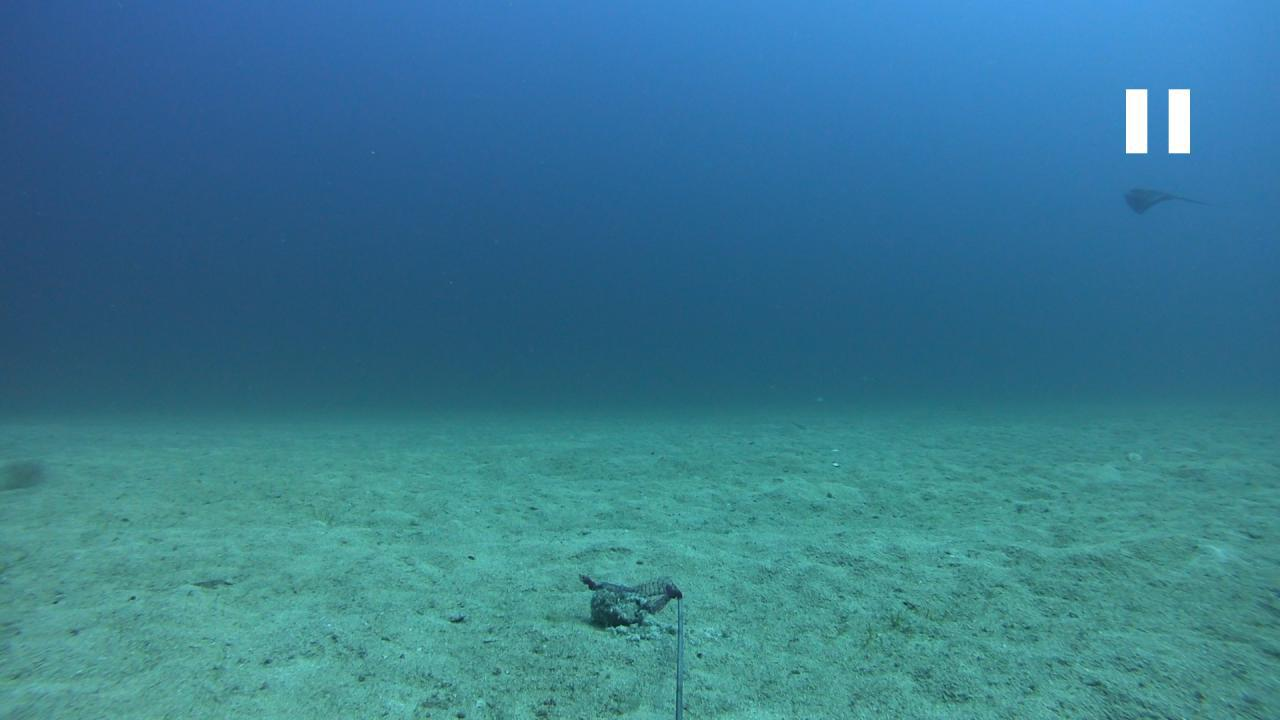dasyatis: (1122, 186, 1206, 215)
